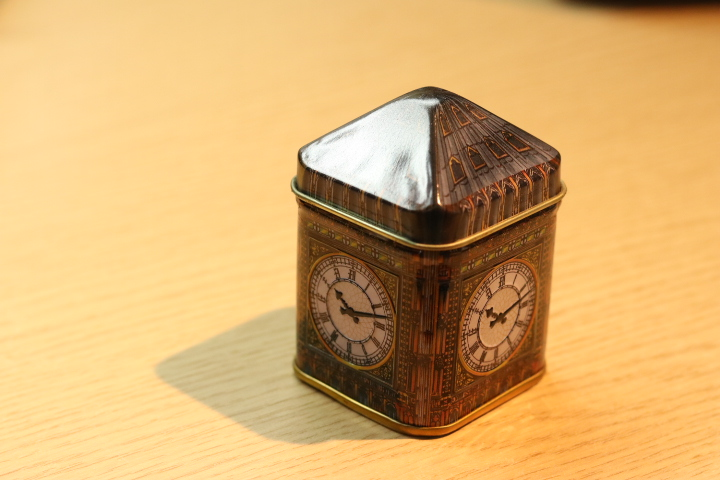Big Ben: (266, 66, 587, 448)
